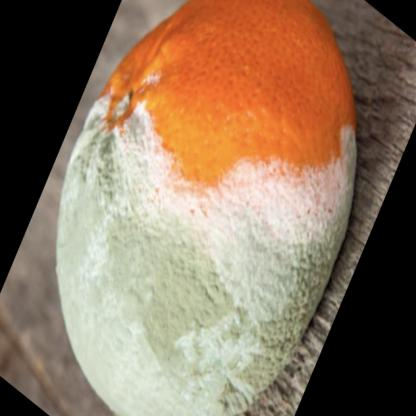rotten: (58, 1, 356, 416)
